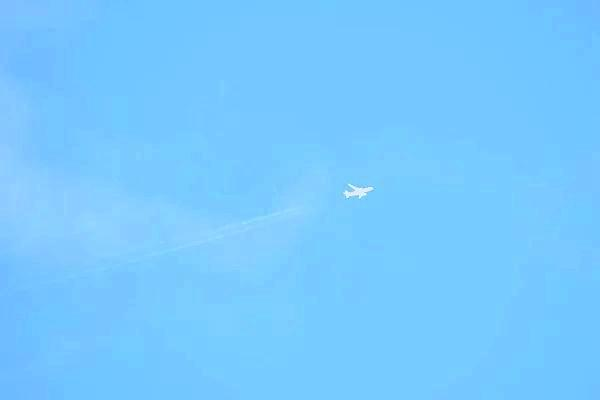Plane: (328, 175, 388, 206)
